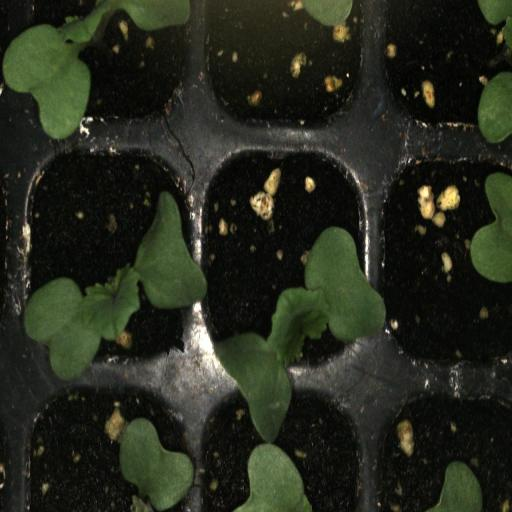seedling: (18, 138, 199, 386), (197, 137, 375, 383), (16, 0, 198, 141)
